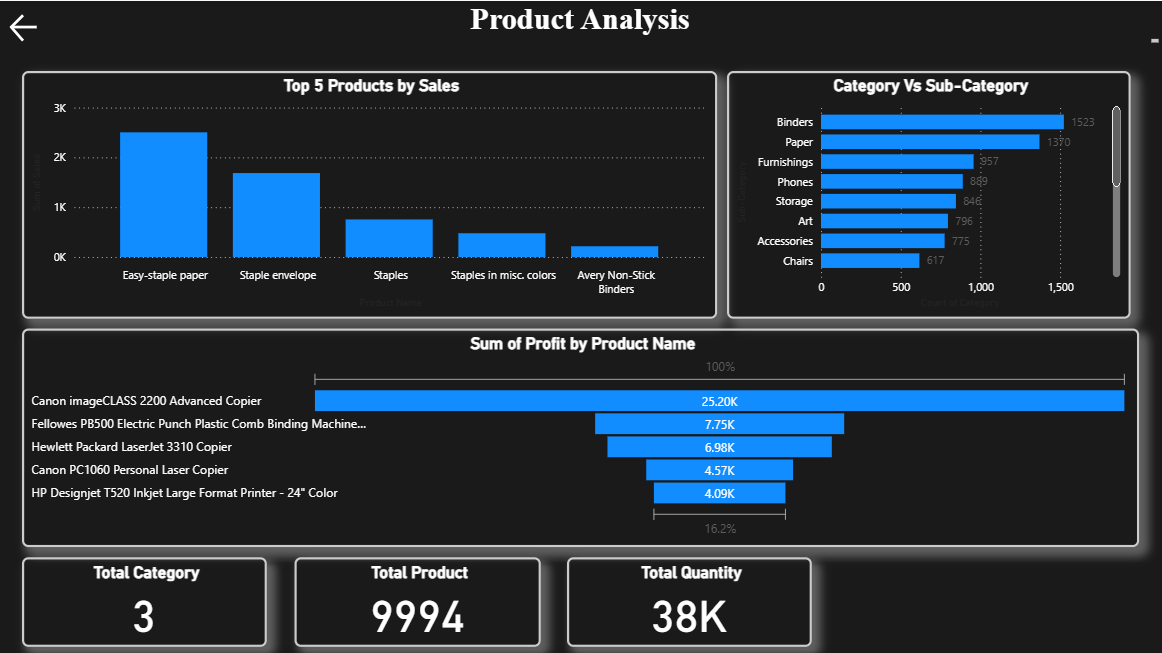

The page's visual inventory and layout, read from the dashboard file:
{"tool":"powerbi","page":{"name":"Product annalysis","canvas":[1280,720],"ordinal":3},"visuals":[{"type":"columnChart","title":"Top 5 Products by Sales","fields":{"Category":["Sample - Superstore.Product Name"],"Y":["Sum(Sample - Superstore.Sales)"]},"box":[27.4,76.8,763,271.7],"z":0},{"type":"barChart","title":"Category Vs Sub-Category","fields":{"Category":["Sample - Superstore.Sub-Category"],"Y":["CountNonNull(Sample - Superstore.Category)"]},"box":[801.4,76.8,443.2,271.7],"z":1000},{"type":"funnel","fields":{"Y":["Sum(Sample - Superstore.Profit)"],"Category":["Sample - Superstore.Product Name"]},"box":[27.4,359.5,1226.8,240.1],"z":2000},{"type":"card","title":"Total Category","fields":{"Values":["Count(Sample - Superstore.Category)"]},"box":[27.4,610.6,269,98.8],"z":3000},{"type":"textbox","title":"Product Analysis","box":[0,0,1280,50.7],"z":4000},{"type":"actionButton","box":[10,10,100,40],"z":5000},{"type":"card","title":"Total Product","fields":{"Values":["CountNonNull(Sample - Superstore.Product Name)"]},"box":[326.6,610.6,270.3,98.8],"z":6000},{"type":"card","title":"Total Quantity","fields":{"Values":["Sum(Sample - Superstore.Quantity)"]},"box":[625.7,610.6,269,98.8],"z":7000}]}

Visuals, with their boxes in screenshot pixels (x1, y1, x2, y2), scaled from the page's 1280x720 canvas onto the 1162x653 screenshot:
"Top 5 Products by Sales" columnChart: bbox=(25, 70, 718, 316)
"Category Vs Sub-Category" barChart: bbox=(728, 70, 1130, 316)
funnel - Sum(Sample - Superstore.Profit) x Sample - Superstore.Product Name: bbox=(25, 326, 1139, 544)
"Total Category" card: bbox=(25, 554, 269, 643)
"Product Analysis" textbox: bbox=(0, 0, 1161, 46)
actionButton: bbox=(9, 9, 100, 45)
"Total Product" card: bbox=(296, 554, 542, 643)
"Total Quantity" card: bbox=(568, 554, 812, 643)
